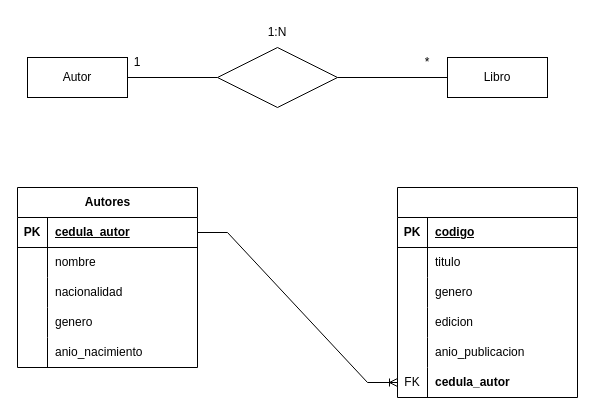
The diagram is 595 pixels wide and 415 high, and some of its shapes have lost their labels. Each missing label, with the box of its shape:
Escribe: (216, 46, 338, 108)
Libros: (396, 186, 578, 398)
